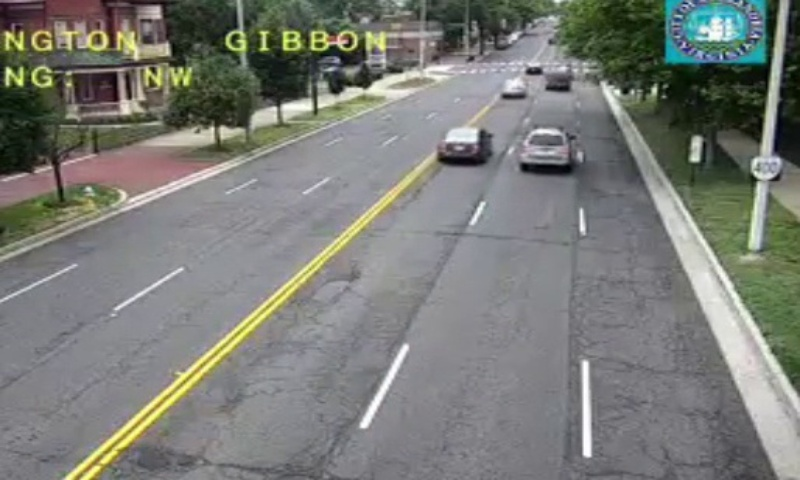car: (518, 128, 569, 167), (438, 127, 490, 161)
